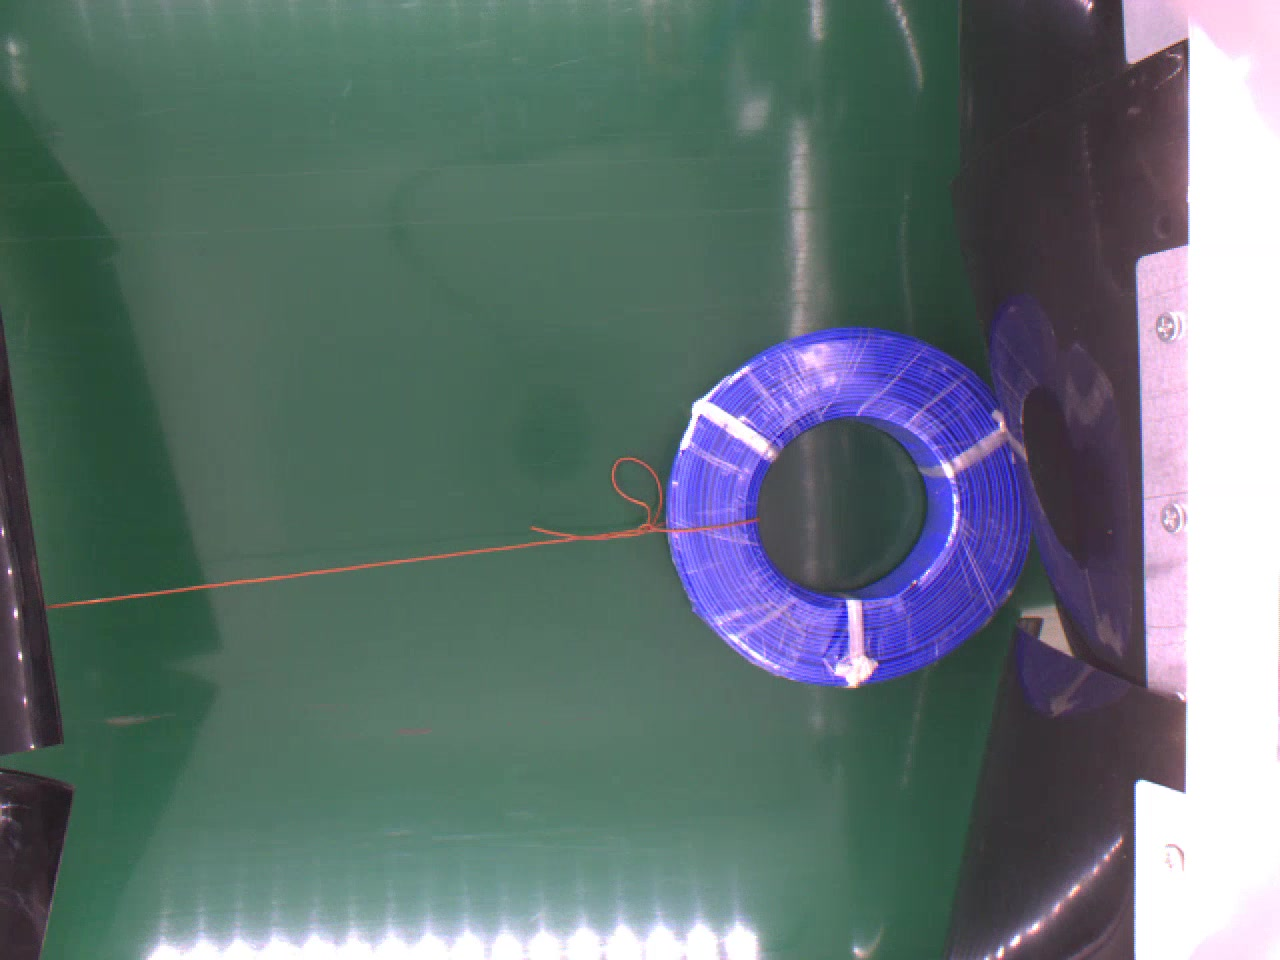blue: (666, 325, 1038, 693)
